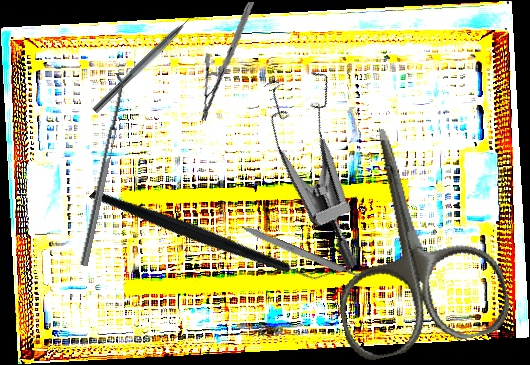Chopper: (89, 117, 334, 350), (92, 6, 206, 121)
Iris Scissors: (302, 110, 515, 365)
Needle Holder: (186, 1, 268, 122)
Scalpel Handle: (239, 223, 360, 282)
Spatula Surgical: (72, 72, 129, 267)
Speculum: (230, 52, 427, 272)
